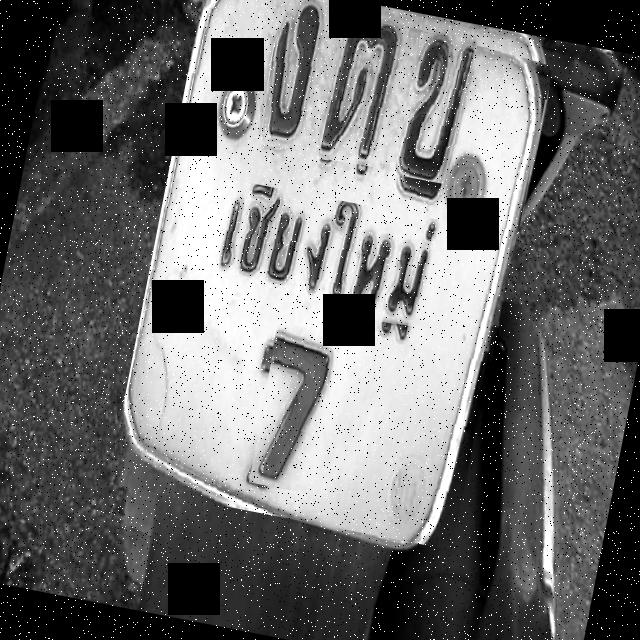letters: (247, 321, 343, 495), (319, 16, 409, 170), (393, 32, 478, 185), (255, 0, 328, 152)
license-plate: (116, 0, 553, 546)
province: (198, 178, 464, 338)
